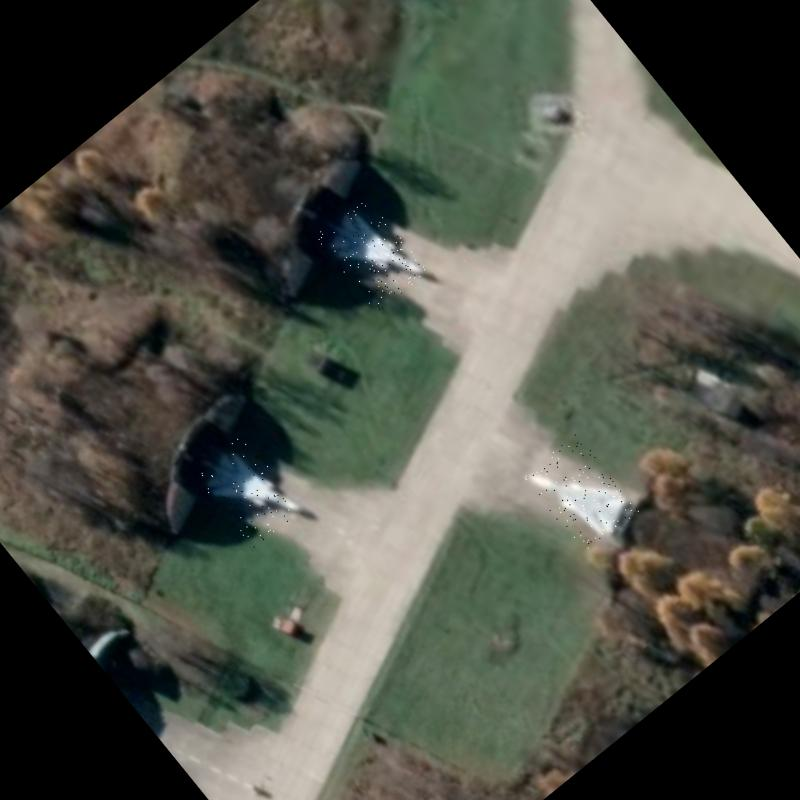A20: (522, 432, 640, 555), (314, 193, 428, 312), (191, 432, 304, 550)
